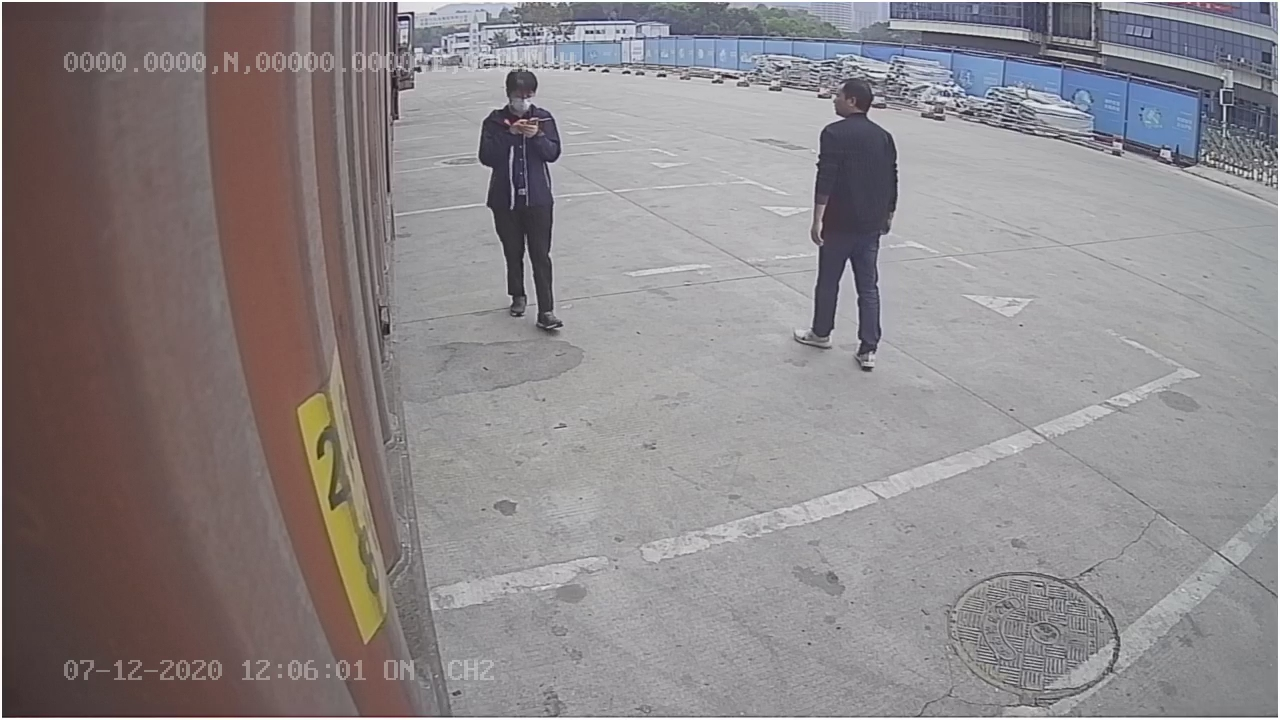person: (795, 75, 902, 374), (478, 62, 571, 332)
